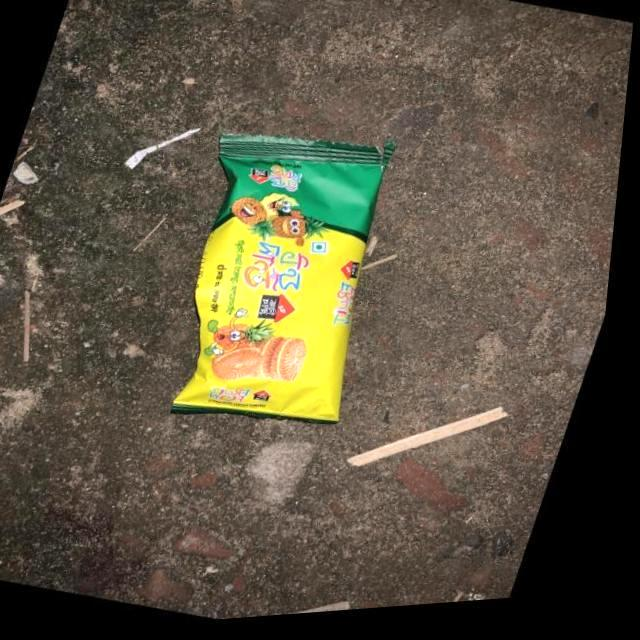packet: (160, 118, 416, 454)
